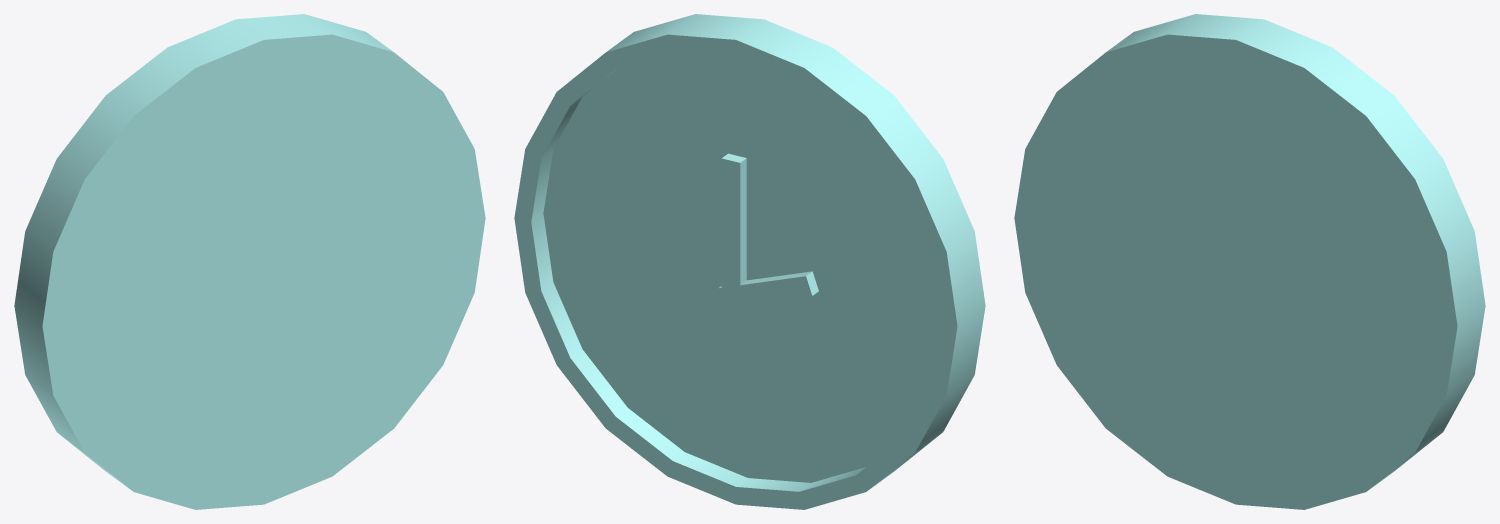
Rendered from Clock.fbx.
The picture shows the model from 3 angles, left to right: view 1: azimuth 30°, elevation 25°; view 2: azimuth 150°, elevation 25°; view 3: azimuth 330°, elevation 25°; orthographic projection.
Visible parts, largest first — view 1: Clock; view 2: Clock; view 3: Clock.
Boxes of the visible parts, left/top/right/bottom form: Clock: left=14, top=14, right=485, bottom=509; Clock: left=514, top=14, right=985, bottom=509; Clock: left=1014, top=14, right=1485, bottom=509.
Bounding box in the file's own units: 36.52 × 36.6 × 4.01.
